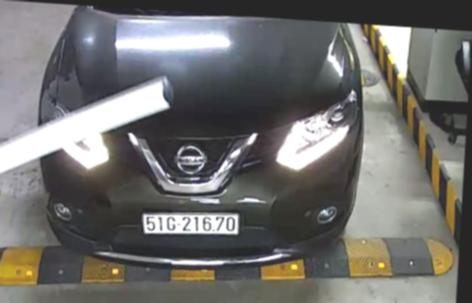License_Plate: (140, 206, 244, 240)
